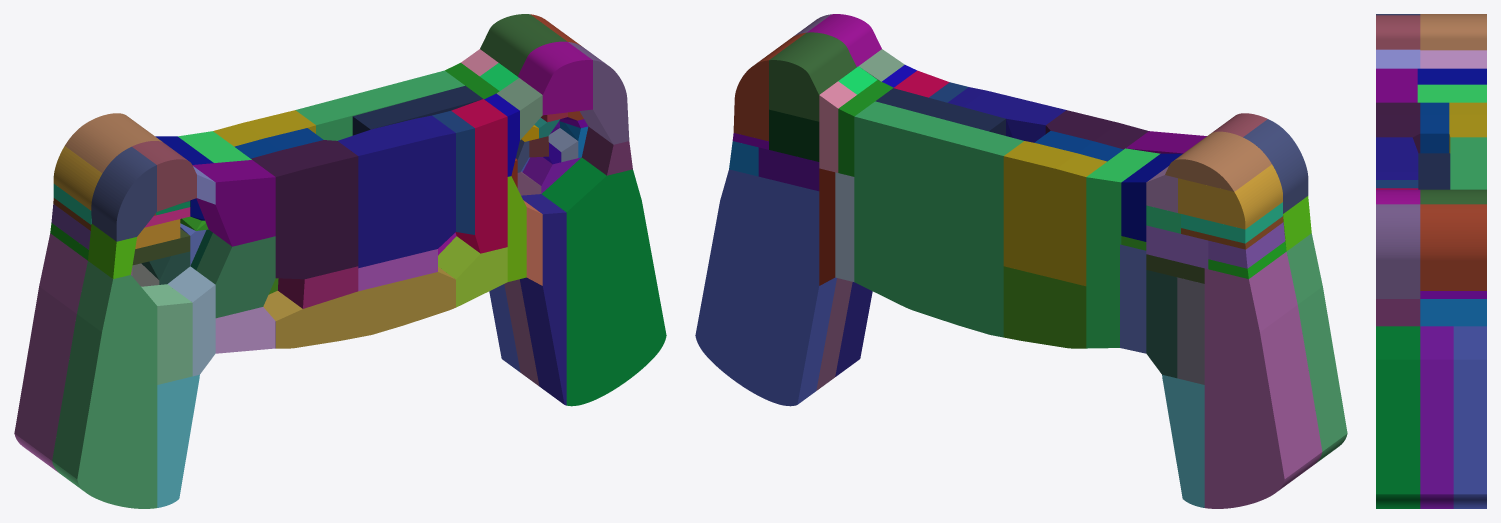
Rendered from 3_canonical.obj.
3 renders of one model, left to right at view 1: azimuth 30°, elevation 25°; view 2: azimuth 150°, elevation 25°; view 3: azimuth 270°, elevation 25°, orthographic. The views are drawn at different scales.
Parts seen in each view (by area): view 1: geometry_3, geometry_33, geometry_20, geometry_26, geometry_7, geometry_37, geometry_18, geometry_11, geometry_55, geometry_16, geometry_43, geometry_14 (+33 smaller); view 2: geometry_10, geometry_47, geometry_7, geometry_48, geometry_36, geometry_3, geometry_30, geometry_19, geometry_2, geometry_76, geometry_52, geometry_78 (+31 smaller); view 3: geometry_33, geometry_47, geometry_51, geometry_31, geometry_1, geometry_52, geometry_10, geometry_29, geometry_20, geometry_26, geometry_13, geometry_42 (+12 smaller).
Part boxes in pixels (bbox=[...]): geometry_3: bbox=[52, 261, 157, 508]; geometry_33: bbox=[542, 157, 666, 406]; geometry_20: bbox=[338, 115, 455, 268]; geometry_26: bbox=[251, 140, 358, 279]; geometry_7: bbox=[14, 233, 132, 472]; geometry_37: bbox=[263, 267, 455, 348]; geometry_18: bbox=[520, 194, 566, 405]; geometry_11: bbox=[192, 160, 275, 246]; geometry_55: bbox=[451, 99, 507, 253]; geometry_16: bbox=[91, 146, 156, 241]; geometry_43: bbox=[196, 233, 275, 318]; geometry_14: bbox=[518, 41, 592, 115]; geometry_10: bbox=[854, 101, 1023, 337]; geometry_47: bbox=[695, 169, 836, 406]; geometry_7: bbox=[1204, 252, 1322, 508]; geometry_48: bbox=[1003, 141, 1106, 286]; geometry_36: bbox=[1086, 148, 1160, 348]; geometry_3: bbox=[1286, 233, 1347, 463]; geometry_30: bbox=[1003, 266, 1086, 348]; geometry_19: bbox=[769, 32, 856, 121]; geometry_2: bbox=[1162, 374, 1204, 507]; geometry_76: bbox=[1178, 164, 1282, 229]; geometry_52: bbox=[1165, 131, 1271, 191]; geometry_78: bbox=[1146, 270, 1177, 378]; geometry_33: bbox=[1376, 326, 1420, 508]; geometry_47: bbox=[1453, 326, 1486, 508]; geometry_51: bbox=[1420, 326, 1453, 508]; geometry_31: bbox=[1420, 204, 1486, 290]; geometry_1: bbox=[1376, 204, 1420, 298]; geometry_52: bbox=[1420, 14, 1486, 50]; geometry_10: bbox=[1450, 137, 1486, 189]; geometry_29: bbox=[1420, 299, 1486, 326]; geometry_20: bbox=[1376, 137, 1418, 179]; geometry_26: bbox=[1376, 102, 1420, 153]; geometry_13: bbox=[1376, 15, 1420, 49]; geometry_42: bbox=[1420, 102, 1449, 153].
Bounding box in the file's own units: 0.1352 × 0.0756 × 0.025.
